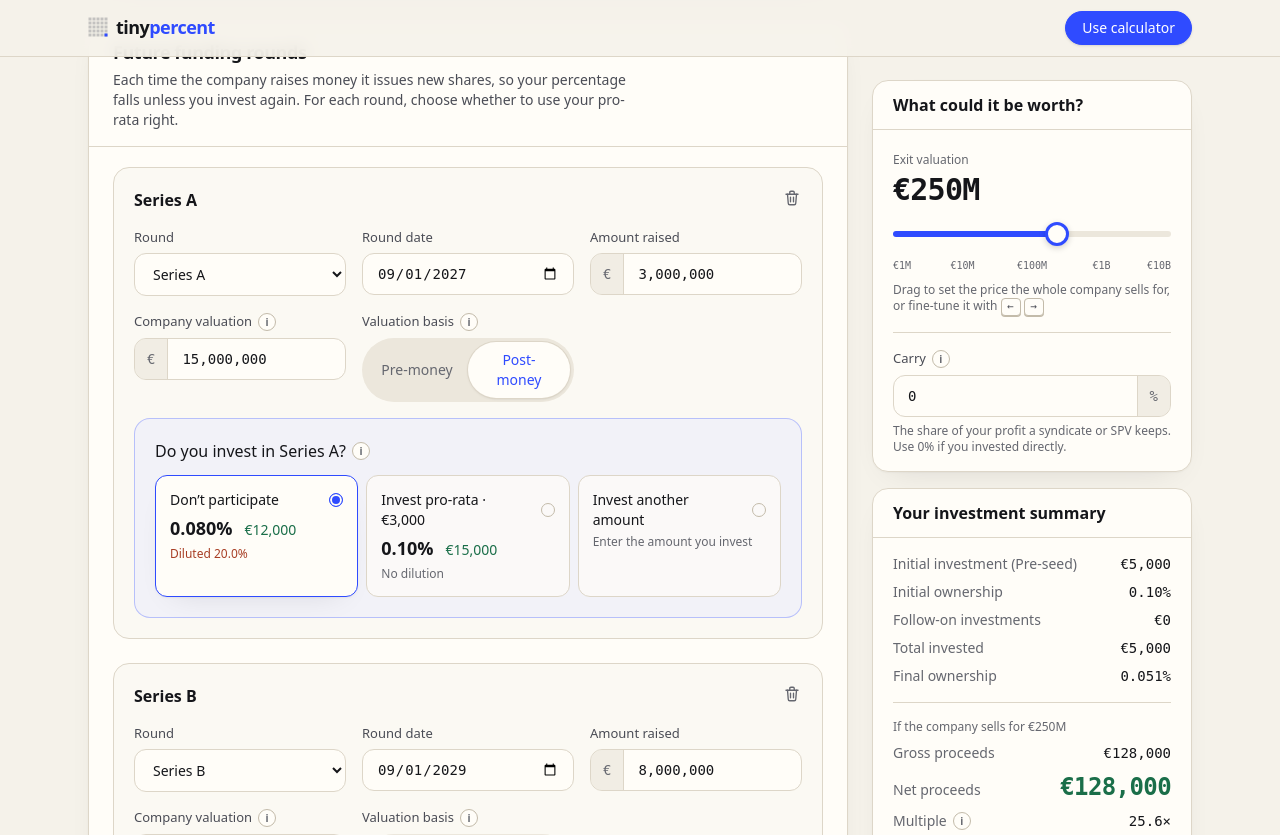
Test: explanations of financial terms › open from the keyboard and close with Escape
(page scrolled)
Step 1. Click the button named "What is pro-rata?" → {"x": 361, "y": 450}, box [352, 442, 370, 460]
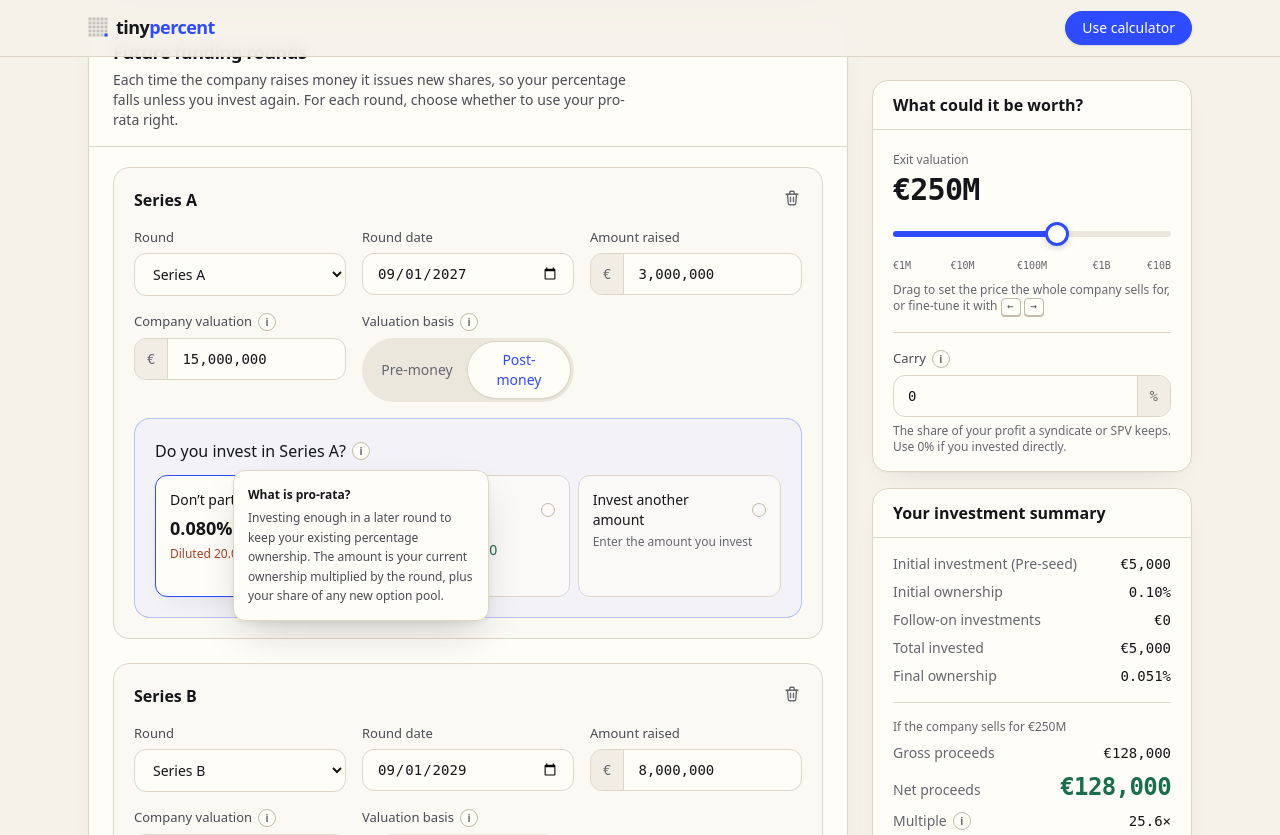
Step 2. Press Escape
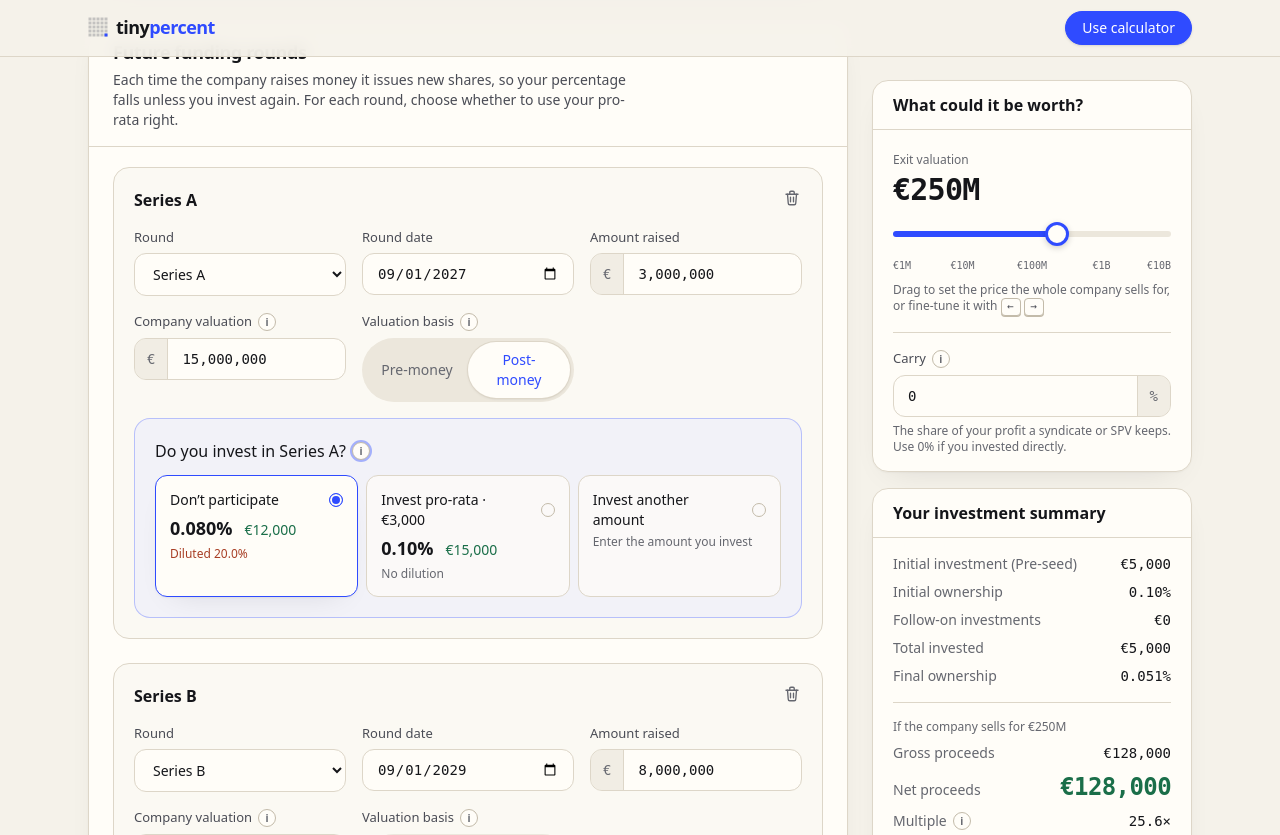
Result: the button named "What is pro-rata?" is collapsed at [352, 442, 370, 460]
